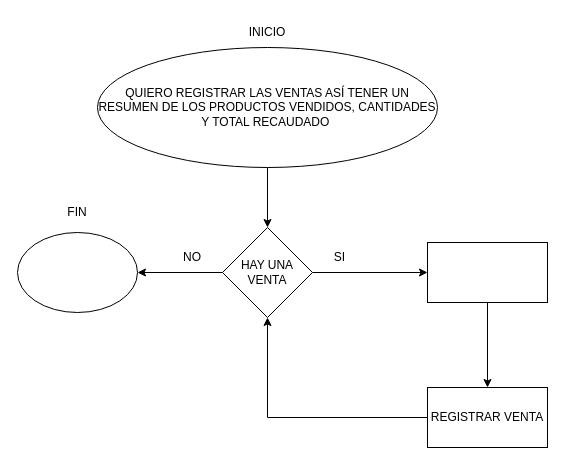
The diagram is 565 pixels wide and 465 high, and some of its shapes have lost their labels. Each missing label, with the centre of its shape:
"MOSTRAR HISTORIAL" belongs at point 77,272.
"PEDIR INFORMACIÓN DEL PRODUCTO" belongs at point 487,272.
